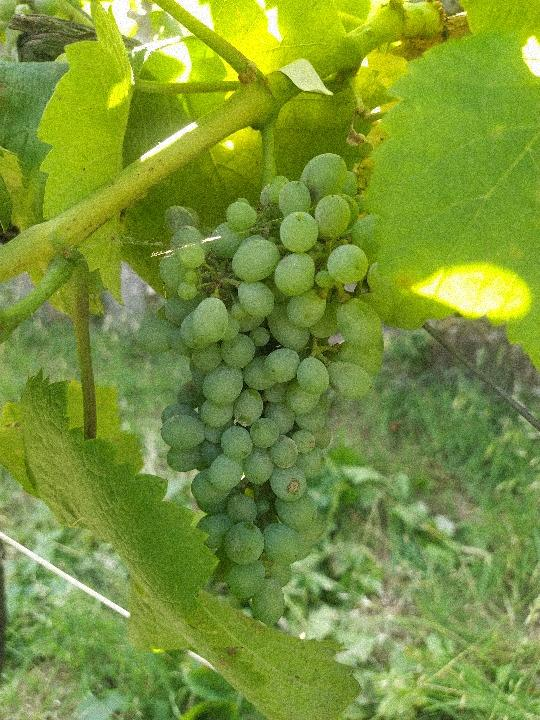grape: (152, 149, 394, 633)
